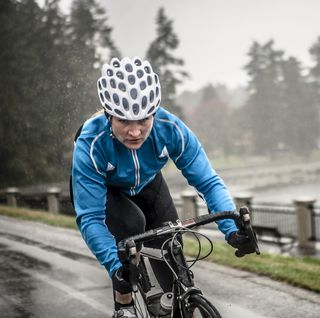helmet: (96, 53, 162, 118)
